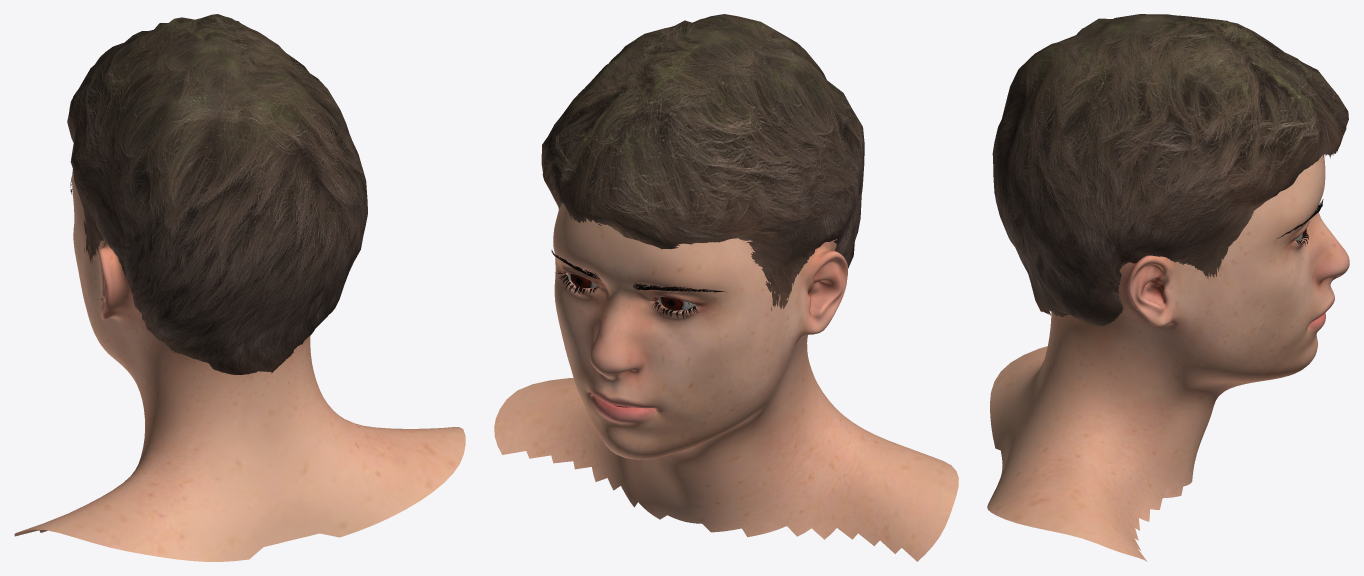
Rendered from reference-head-webp.glb.
3 views of the same model, side by side, from view 1: azimuth 30°, elevation 25°; view 2: azimuth 150°, elevation 25°; view 3: azimuth 270°, elevation 25° (orthographic). The views are drawn at different scales.
Parts seen in each view (by area): view 1: short02, Drew_|_anatomical_body; view 2: Drew_|_anatomical_body, short02, low-poly; view 3: short02, Drew_|_anatomical_body.
Boxes of the visible parts, <box> form: short02: <box>67,14,367,374</box>; Drew_|_anatomical_body: <box>14,169,465,561</box>; Drew_|_anatomical_body: <box>494,202,958,561</box>; short02: <box>541,14,864,310</box>; low-poly: <box>568,273,695,310</box>; short02: <box>992,14,1348,326</box>; Drew_|_anatomical_body: <box>987,155,1349,561</box>.
Bounding box in the file's own units: 0.3556 × 0.36 × 0.2633.
6 materials, 6 textured.
